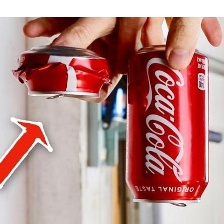can: (124, 44, 214, 211), (8, 42, 115, 102)
